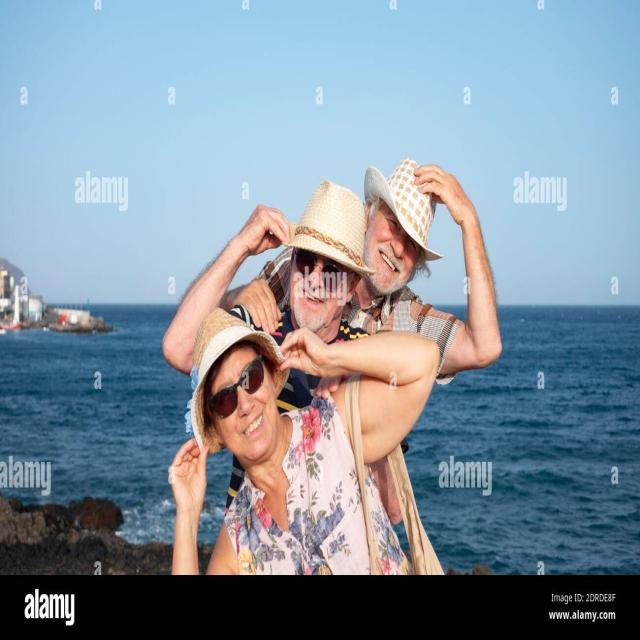hat: (190, 304, 290, 461), (272, 178, 372, 331), (360, 147, 442, 297)
